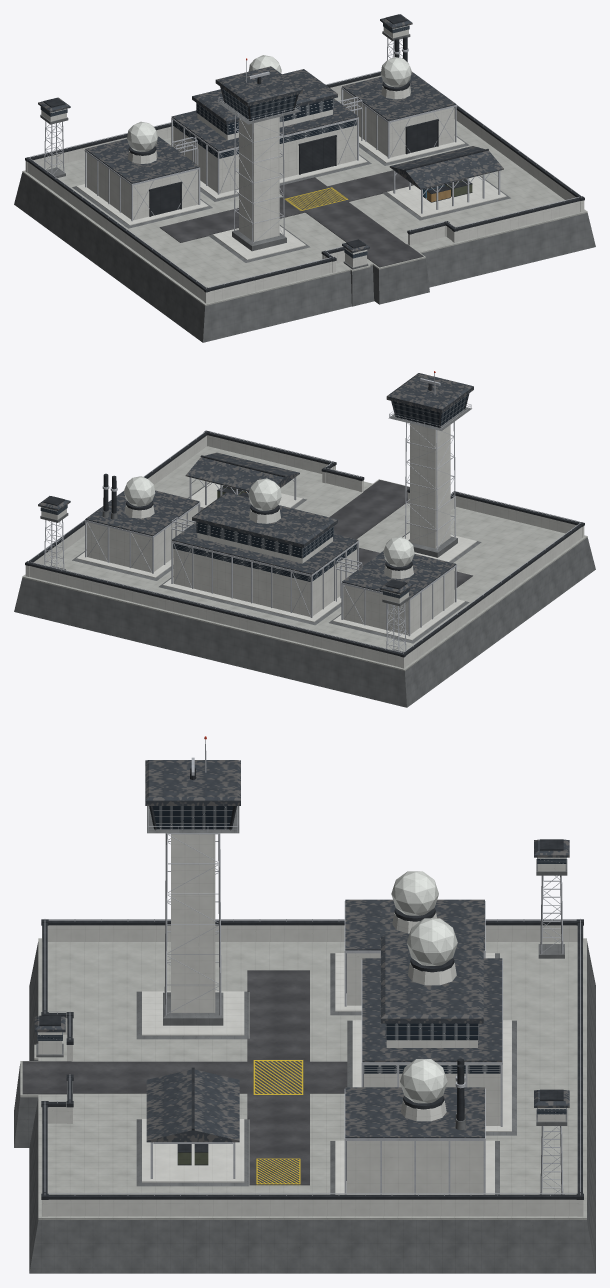
File: command_hq_lvl3.glb
The picture shows the model from 3 angles, top to bottom: view 1: azimuth 30°, elevation 25°; view 2: azimuth 150°, elevation 25°; view 3: azimuth 270°, elevation 25°; orthographic projection. The views are drawn at different scales.
Visible parts, largest first — view 1: CHQ_L3_ConcLight, CHQ_L3_ConcDark, CHQ_L3_ConcMid, CHQ_L3_RoofCorr, CHQ_L3_SteelTruss, CHQ_L3_Asphalt, CHQ_L3_SteelDark, CHQ_L3_WindowDark, CHQ_L3_DoorCorr, CHQ_L3_Radome, CHQ_L3_HatchZone; view 2: CHQ_L3_ConcLight, CHQ_L3_ConcDark, CHQ_L3_ConcMid, CHQ_L3_RoofCorr, CHQ_L3_SteelTruss, CHQ_L3_SteelDark, CHQ_L3_WindowDark, CHQ_L3_Asphalt, CHQ_L3_Radome; view 3: CHQ_L3_ConcMid, CHQ_L3_ConcLight, CHQ_L3_ConcDark, CHQ_L3_RoofCorr, CHQ_L3_Asphalt, CHQ_L3_SteelDark, CHQ_L3_SteelTruss, CHQ_L3_Radome, CHQ_L3_WindowDark, CHQ_L3_HatchZone.
Boxes of the visible parts, box(x1,y1,x2,y2) form: CHQ_L3_ConcLight: box(25, 25, 584, 303); CHQ_L3_ConcDark: box(14, 31, 595, 342); CHQ_L3_ConcMid: box(22, 96, 587, 305); CHQ_L3_RoofCorr: box(38, 14, 503, 253); CHQ_L3_SteelTruss: box(28, 37, 581, 288); CHQ_L3_Asphalt: box(159, 170, 423, 267); CHQ_L3_SteelDark: box(25, 14, 584, 292); CHQ_L3_WindowDark: box(40, 23, 409, 258); CHQ_L3_DoorCorr: box(151, 121, 436, 215); CHQ_L3_Radome: box(127, 55, 411, 151); CHQ_L3_HatchZone: box(284, 187, 349, 211); CHQ_L3_ConcLight: box(25, 423, 584, 668); CHQ_L3_ConcDark: box(14, 407, 595, 707); CHQ_L3_ConcMid: box(22, 446, 587, 670); CHQ_L3_RoofCorr: box(38, 373, 473, 598); CHQ_L3_SteelTruss: box(28, 373, 581, 653); CHQ_L3_SteelDark: box(25, 383, 584, 657); CHQ_L3_WindowDark: box(40, 395, 467, 598); CHQ_L3_Asphalt: box(200, 479, 472, 589); CHQ_L3_Radome: box(124, 476, 414, 566); CHQ_L3_ConcMid: box(20, 938, 586, 1219); CHQ_L3_ConcLight: box(38, 834, 583, 1216); CHQ_L3_ConcDark: box(14, 806, 595, 1273); CHQ_L3_RoofCorr: box(34, 760, 569, 1142); CHQ_L3_Asphalt: box(22, 970, 347, 1185); CHQ_L3_SteelDark: box(39, 767, 583, 1199); CHQ_L3_SteelTruss: box(44, 739, 580, 1195); CHQ_L3_Radome: box(391, 871, 457, 1103); CHQ_L3_WindowDark: box(37, 806, 566, 1114); CHQ_L3_HatchZone: box(253, 1059, 303, 1185).
Size of the model in its own units: 120 by 62.8 by 102.
Materials: 15 (15 with a texture image).
